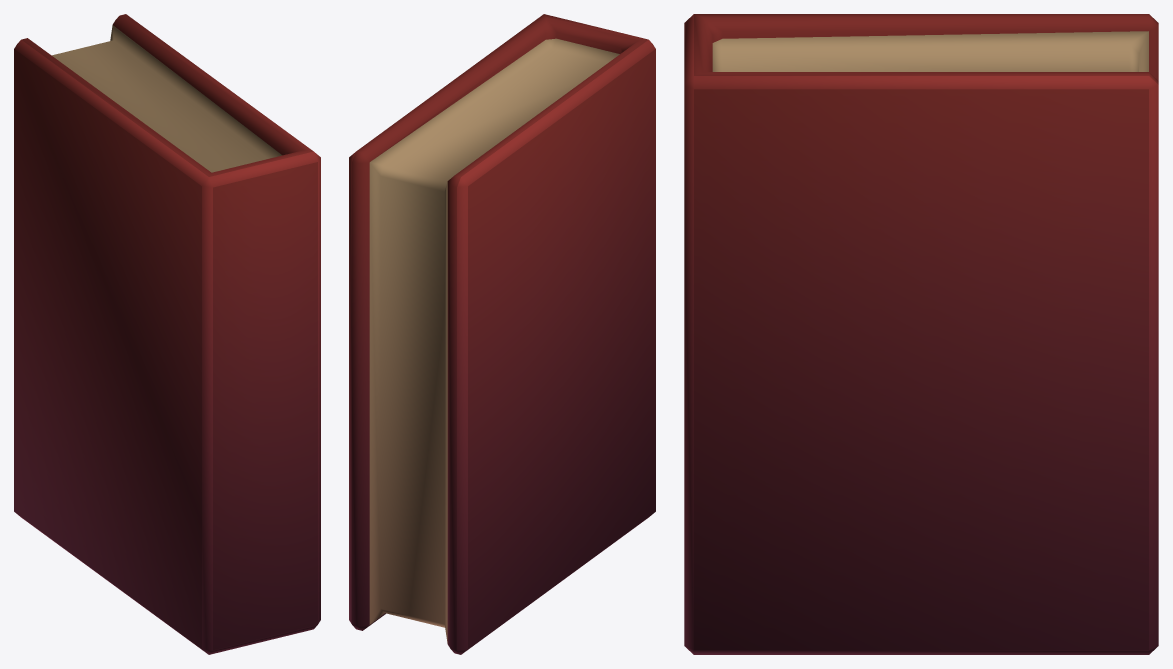
File: book.fbx
3 views of the same model, side by side, from view 1: azimuth 30°, elevation 25°; view 2: azimuth 150°, elevation 25°; view 3: azimuth 270°, elevation 25° (orthographic). The views are drawn at different scales.
Visible parts, largest first — view 1: book; view 2: book; view 3: book.
Boxes of the visible parts, x1=… form: book: x1=14, y1=14, x2=320, y2=654; book: x1=349, y1=14, x2=655, y2=654; book: x1=684, y1=14, x2=1158, y2=654.
Bounding box in the file's own units: 21.5 × 82.64 × 61.4.
